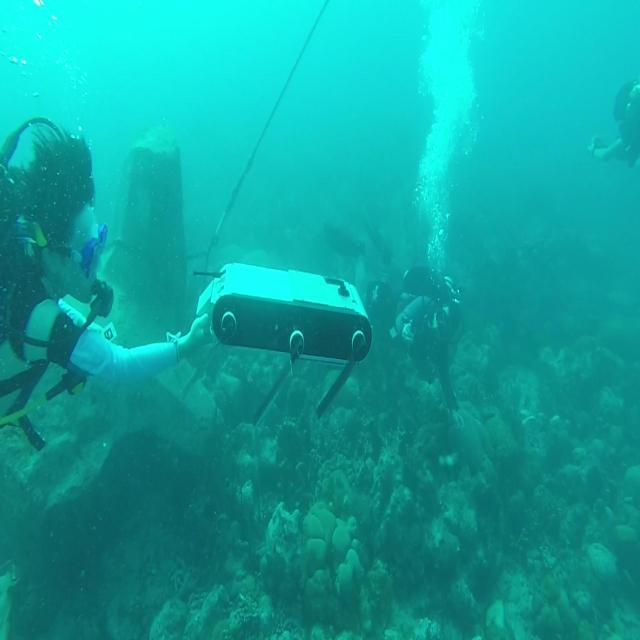human: (0, 115, 214, 450), (389, 263, 464, 416), (587, 77, 639, 168)
